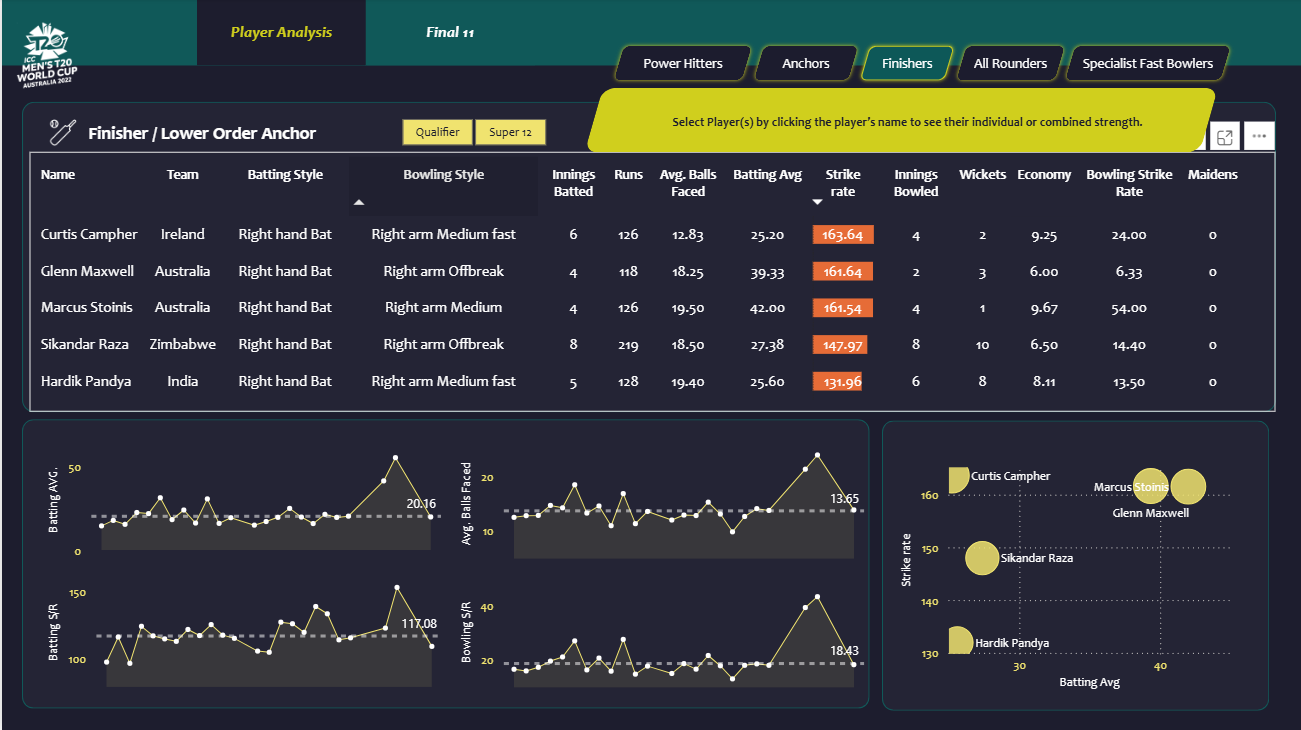

What the dashboard file says about the page in this screenshot:
{"tool":"powerbi","page":{"name":"New Finisher / Lower Order Anchor","canvas":[1280,720],"ordinal":2},"visuals":[{"type":"shape","box":[0,66,1280,654],"z":0},{"type":"card","fields":{"Values":["Key_Measures.Strike rate"]},"box":[867,89,93,60],"z":0,"group":"g2"},{"type":"shape","box":[83.7,116.2,260,31.2],"z":0,"group":"g1"},{"type":"card","fields":{"Values":["Key_Measures.Bat Avg"]},"box":[768,89,92,60],"z":1000,"group":"g2"},{"type":"image","box":[37.5,113.8,44,36],"z":1000,"group":"g1"},{"type":"shape","box":[20,414,832,284],"z":1000},{"type":"actionButton","box":[734,42.6,111,42],"z":2000},{"type":"card","fields":{"Values":["Key_Measures.Bowling Strike Rate"]},"box":[1073,89,100,60],"z":2000,"group":"g2"},{"type":"actionButton","box":[596,42.6,144,42],"z":3000},{"type":"card","fields":{"Values":["Key_Measures.Avergate Balls Faced"]},"box":[966,89,101,60],"z":3000,"group":"g2"},{"type":"actionButton","box":[838,42.6,101,42],"z":4000},{"type":"actionButton","box":[932,42.6,115,42],"z":5000},{"type":"actionButton","box":[1039,42.6,171,42],"z":6000},{"type":"areaChart","fields":{"Category":["dim_match_summary.Match_Date.Variation.Date Hierarchy.Day"],"Y":["Key_Measures.Avergate Balls Faced"]},"box":[446,430,406,126],"z":7000},{"type":"areaChart","fields":{"Category":["dim_match_summary.Match_Date.Variation.Date Hierarchy.Day"],"Y":["Key_Measures.Bowling Strike Rate"]},"box":[446,556,406,126],"z":8000},{"type":"areaChart","fields":{"Category":["dim_match_summary.Match_Date.Variation.Date Hierarchy.Day"],"Y":["Key_Measures.Bat Avg"]},"box":[40,428.9,395.6,126.7],"z":9000},{"type":"areaChart","fields":{"Category":["dim_match_summary.Match_Date.Variation.Date Hierarchy.Day"],"Y":["Key_Measures.Strike rate"]},"box":[40,555.6,396.7,125.6],"z":10000},{"type":"shape","box":[19.6,101.9,1231,304.8],"z":11000},{"type":"group","id":"g1","title":"Group 2","box":[37.5,113.8,306.2,36],"z":12000},{"type":"slicer","fields":{"Values":["dim_match_summary.stage"]},"box":[366.7,111.1,191.1,38.9],"z":13000},{"type":"tableEx","fields":{"Values":["dim_player.name","Min(dim_player.team)","Min(dim_player.Batting Style)","Min(dim_player.Bowling Style)","Key_Measures.Total Innings Batted","Key_Measures.Total Runs","Key_Measures.Avergate Balls Faced","Key_Measures.Bat Avg","Key_Measures.Strike rate","Key_Measures.Total Innings Bowled","Key_Measures.wickets","Key_Measures.Economy"]},"box":[26.5,150.9,1224.1,254.8],"z":14000},{"type":"shape","box":[572,88,622,63],"z":15000},{"type":"shape","box":[591,103,173,34],"z":16000},{"type":"group","id":"g2","title":"Combined Perfoamce Metrices","box":[768,89,405,60],"z":17000},{"type":"actionButton","title":"Button Player Ana selected","box":[191,0,166,66],"z":18000},{"type":"actionButton","title":"Button Player Ana selected","box":[357,0,166,66],"z":19000},{"type":"shape","box":[608.6,102.9,560.6,36.3],"z":20000},{"type":"shape","box":[863.7,414.3,380,284.8],"z":21000},{"type":"scatterChart","fields":{"Y":["Key_Measures.Strike rate"],"Category":["dim_player.name"],"X":["Key_Measures.Bat Avg"],"Size":["Key_Measures.Strike rate"]},"box":[877.1,447.3,340.9,235.5],"z":22000},{"type":"image","box":[9.7,6.9,69.4,98.5],"z":23000}]}

Visuals, with their boxes in screenshot pixels (x1, y1, x2, y2), scaled from the page's 1280x720 canvas onto the 1301x730 screenshot:
shape: pyautogui.locateOnScreen(0, 67, 1300, 729)
card - Key_Measures.Strike rate: pyautogui.locateOnScreen(881, 90, 976, 151)
shape: pyautogui.locateOnScreen(85, 118, 349, 149)
card - Key_Measures.Bat Avg: pyautogui.locateOnScreen(781, 90, 874, 151)
image: pyautogui.locateOnScreen(38, 115, 83, 152)
shape: pyautogui.locateOnScreen(20, 420, 866, 708)
actionButton: pyautogui.locateOnScreen(746, 43, 859, 86)
card - Key_Measures.Bowling Strike Rate: pyautogui.locateOnScreen(1091, 90, 1192, 151)
actionButton: pyautogui.locateOnScreen(606, 43, 752, 86)
card - Key_Measures.Avergate Balls Faced: pyautogui.locateOnScreen(982, 90, 1085, 151)
actionButton: pyautogui.locateOnScreen(852, 43, 954, 86)
actionButton: pyautogui.locateOnScreen(947, 43, 1064, 86)
actionButton: pyautogui.locateOnScreen(1056, 43, 1230, 86)
areaChart - dim_match_summary.Match_Date.Variation.Date Hierarchy.Day x Key_Measures.Avergate Balls Faced: pyautogui.locateOnScreen(453, 436, 866, 564)
areaChart - dim_match_summary.Match_Date.Variation.Date Hierarchy.Day x Key_Measures.Bowling Strike Rate: pyautogui.locateOnScreen(453, 564, 866, 691)
areaChart - dim_match_summary.Match_Date.Variation.Date Hierarchy.Day x Key_Measures.Bat Avg: pyautogui.locateOnScreen(41, 435, 443, 563)
areaChart - dim_match_summary.Match_Date.Variation.Date Hierarchy.Day x Key_Measures.Strike rate: pyautogui.locateOnScreen(41, 563, 444, 691)
shape: pyautogui.locateOnScreen(20, 103, 1271, 412)
"Group 2" group: pyautogui.locateOnScreen(38, 115, 349, 152)
slicer - dim_match_summary.stage: pyautogui.locateOnScreen(373, 113, 567, 152)
tableEx - dim_player.name x Min(dim_player.team): pyautogui.locateOnScreen(27, 153, 1271, 411)
shape: pyautogui.locateOnScreen(581, 89, 1214, 153)
shape: pyautogui.locateOnScreen(601, 104, 777, 139)
"Combined Perfoamce Metrices" group: pyautogui.locateOnScreen(781, 90, 1192, 151)
"Button Player Ana selected" actionButton: pyautogui.locateOnScreen(194, 0, 363, 67)
"Button Player Ana selected" actionButton: pyautogui.locateOnScreen(363, 0, 532, 67)
shape: pyautogui.locateOnScreen(619, 104, 1188, 141)
shape: pyautogui.locateOnScreen(878, 420, 1264, 709)
scatterChart - Key_Measures.Strike rate x dim_player.name: pyautogui.locateOnScreen(891, 454, 1238, 692)
image: pyautogui.locateOnScreen(10, 7, 80, 107)
